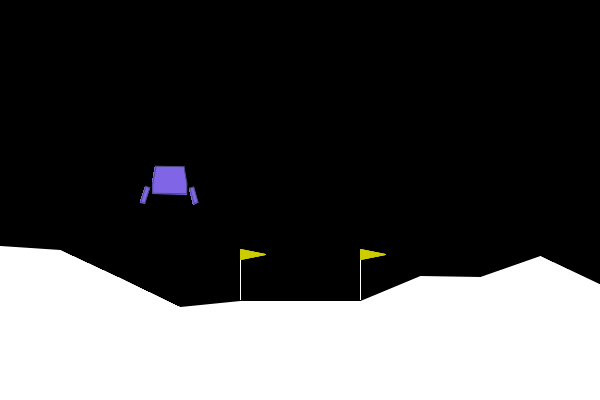lander: (139, 164, 200, 205)
